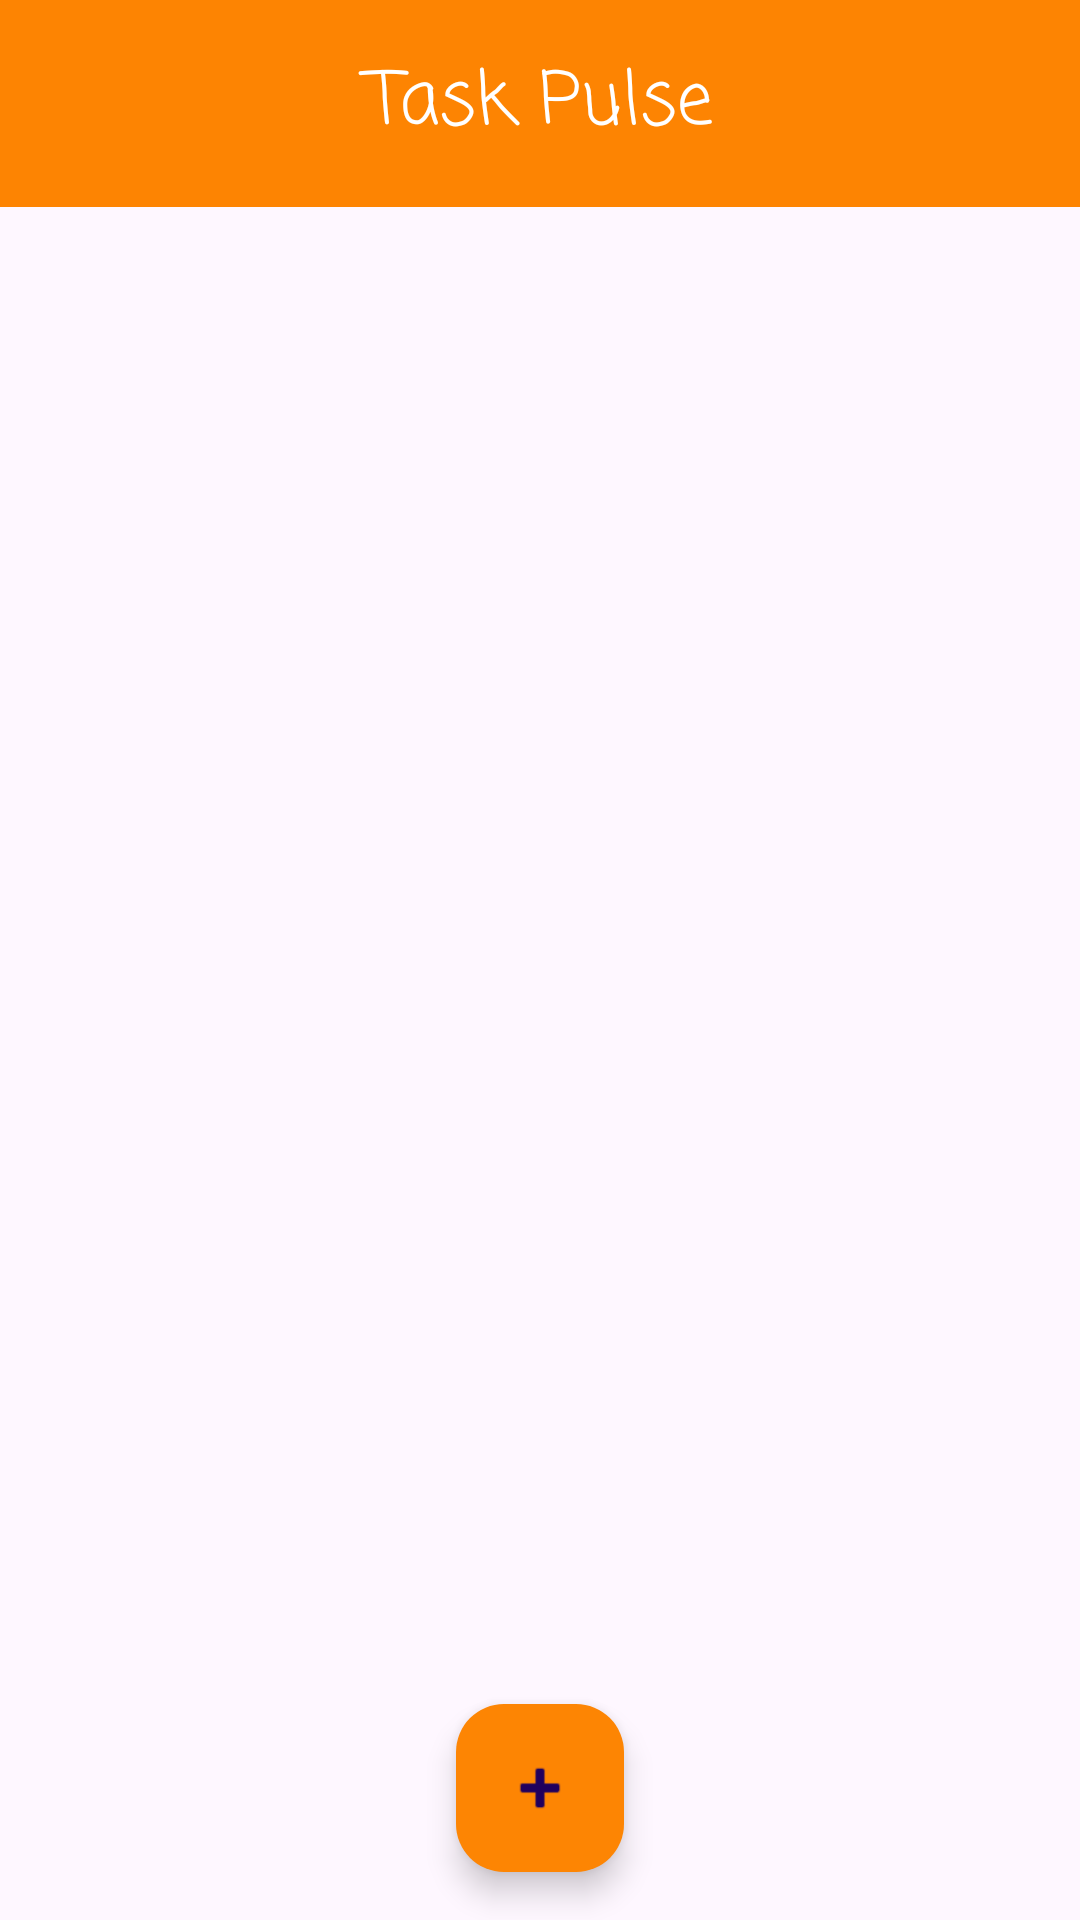

Icons on this 1080*1920 Android screen, each with the point to tap as (x=x, y=y):
add: (x=540, y=1788)
